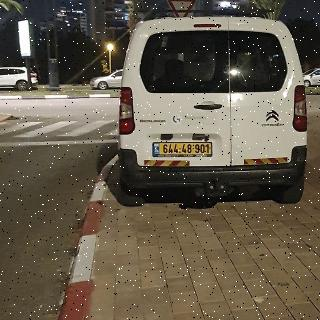LicensePlate: (160, 144, 211, 154)
